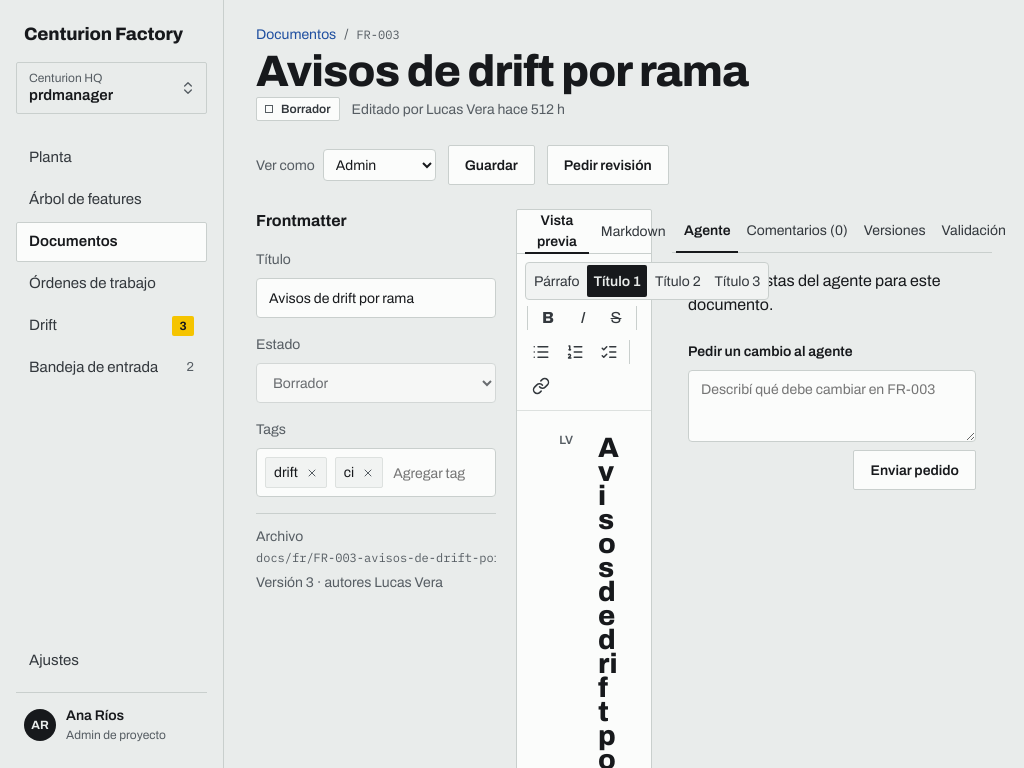
it: WorkflowActions by role, on a draft document (FR-003) › lets Editor ask for review too
The width and height of the screenshot is (1024, 768).
Expected: the text "Versión 3 · autores Lucas Vera" is shown, [256,575,443,590]
Select "Editor" in the dropdown labelled "Ver como" at (379, 165), box [323,149,436,181]
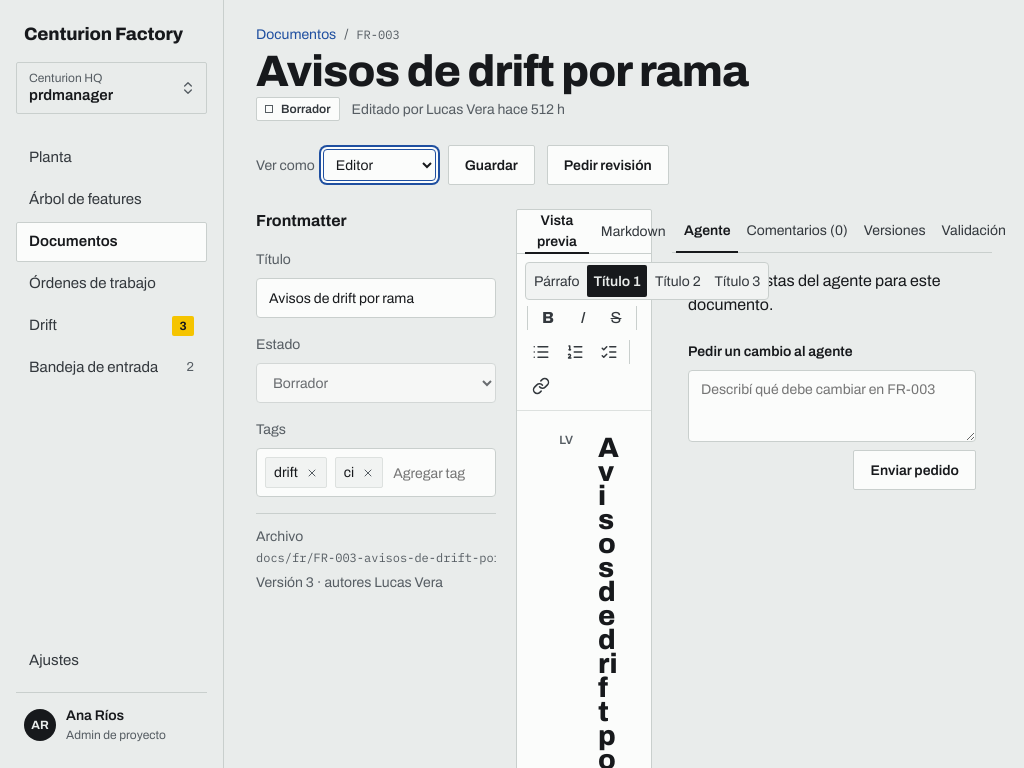
Click the button "Pedir revisión".
click(608, 165)  # box [547,145,669,185]
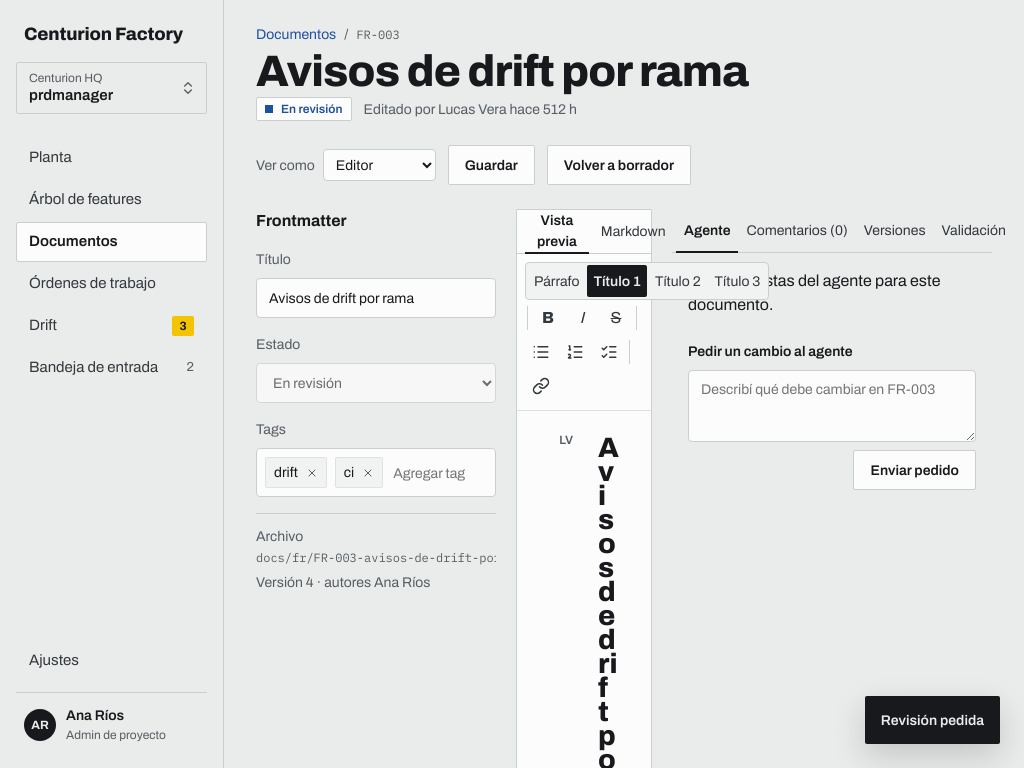
Result: the text "Revisión pedida" is shown at [865,696,1000,744]
